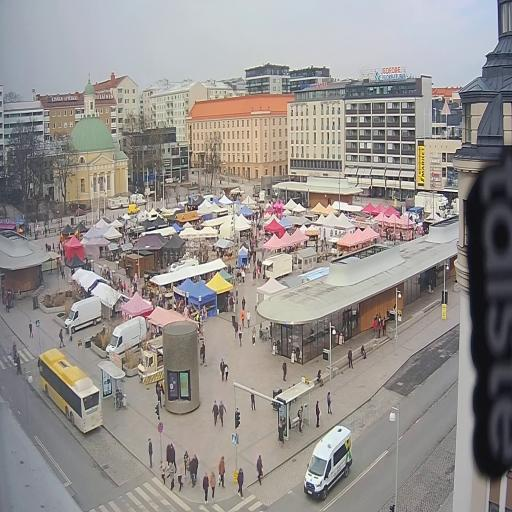bus: (32, 344, 107, 438)
delivery: (302, 420, 356, 506), (104, 312, 149, 363), (64, 288, 106, 338), (412, 192, 449, 219), (129, 187, 152, 205), (126, 202, 141, 217)
